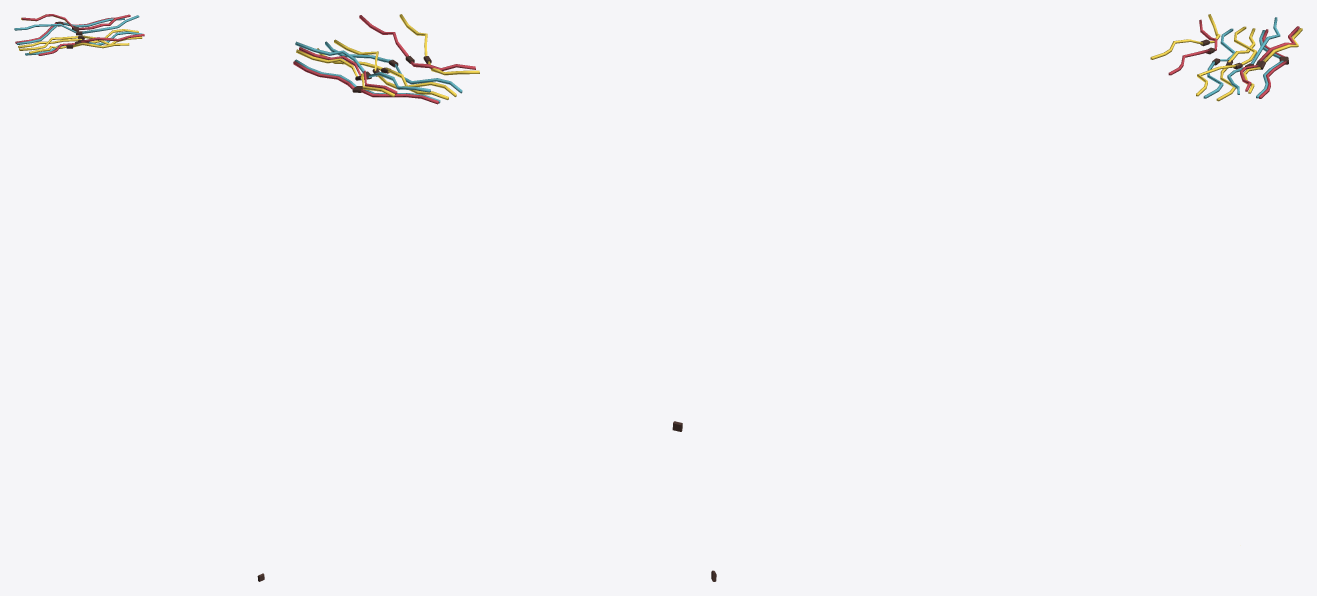
3 views of the same model, side by side, from view 1: azimuth 30°, elevation 25°; view 2: azimuth 150°, elevation 25°; view 3: azimuth 270°, elevation 25° (orthographic). The views are drawn at different scales.
Size of the model in its own units: 1332 by 4317 by 4251.
